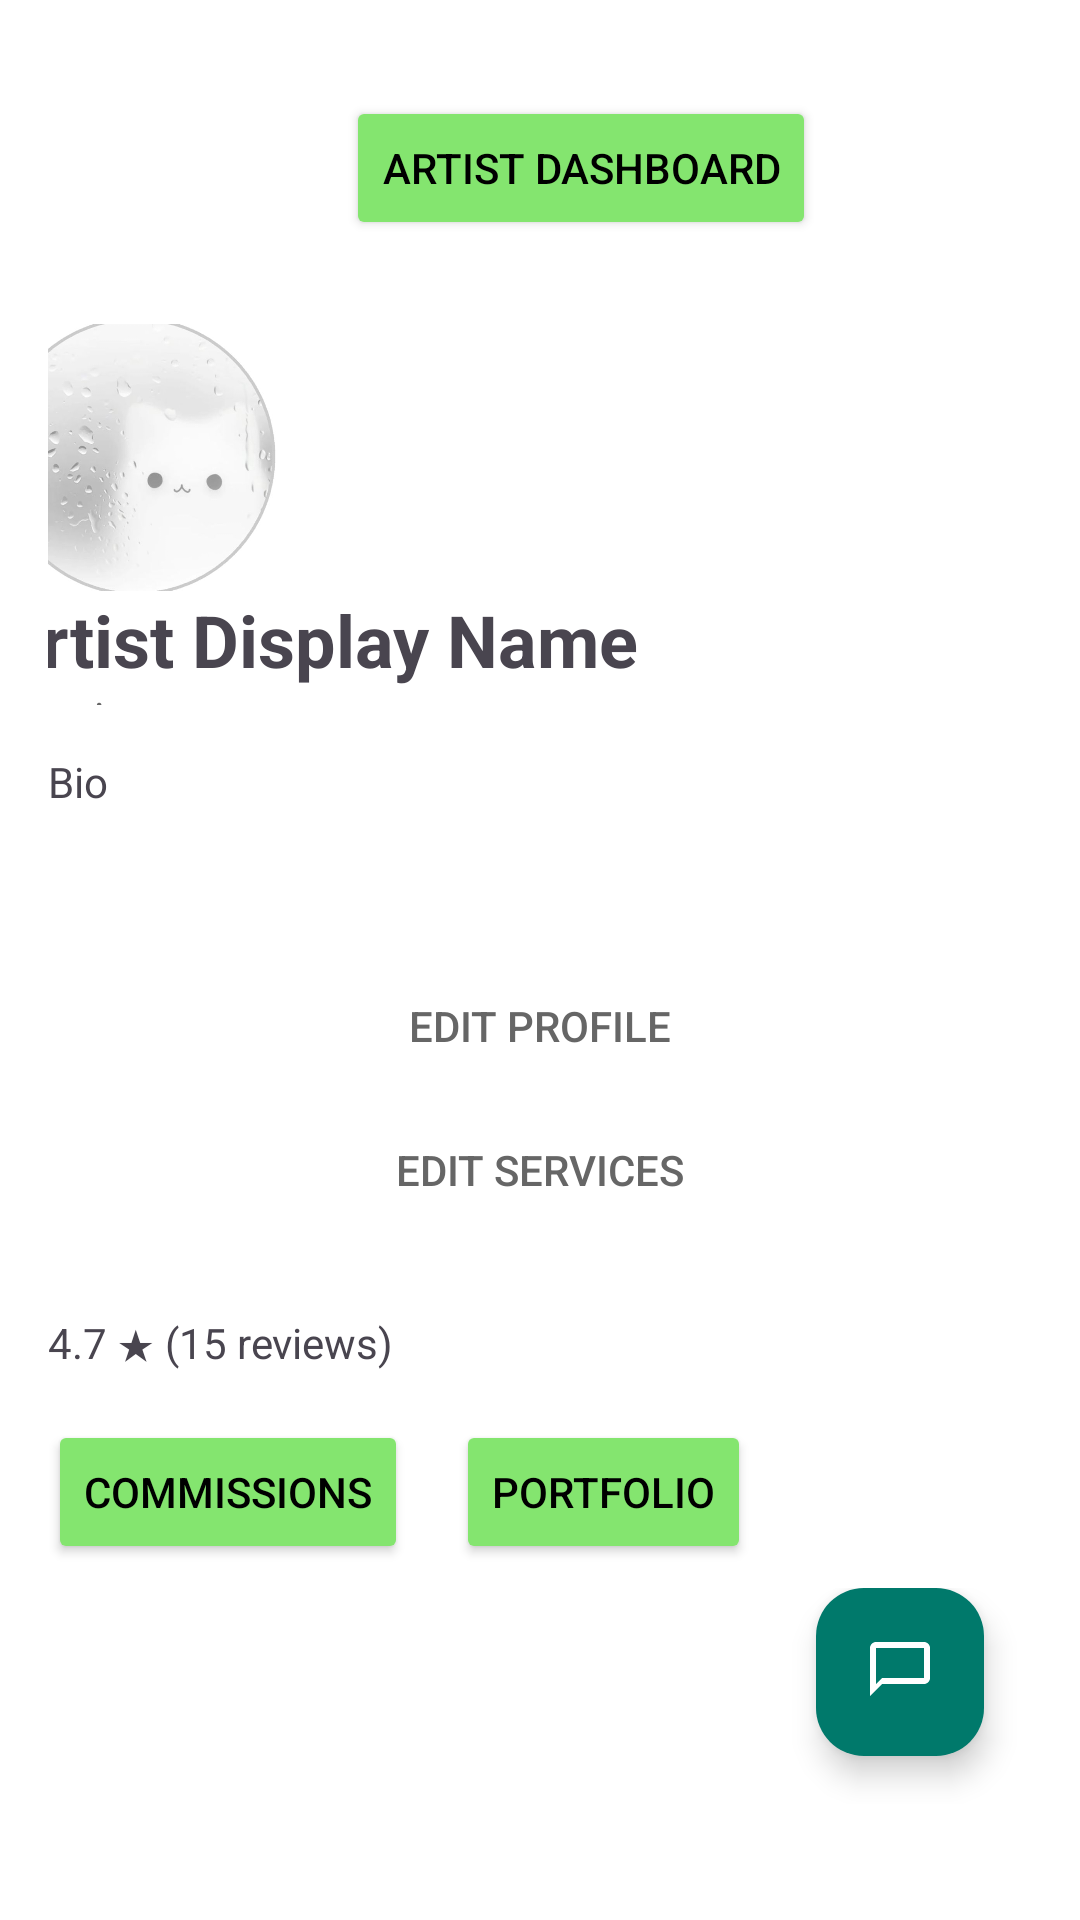

Where to tap for icons on this 1080px×1920px app screen, as (x=x, y=y):
Messages: (x=900, y=1672)
